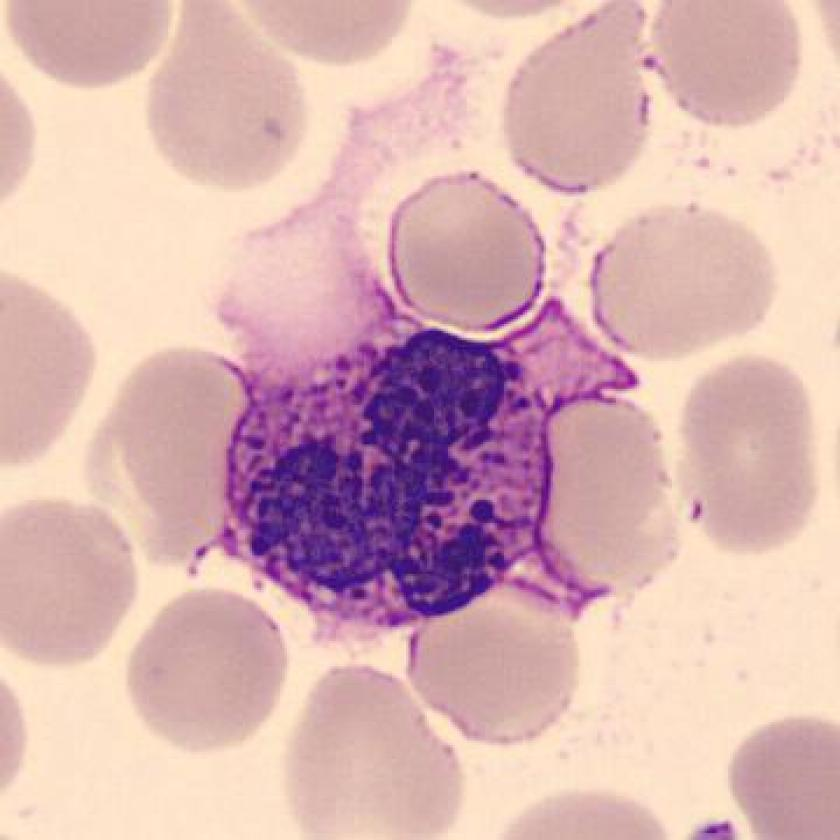basophil: (213, 321, 559, 631)
